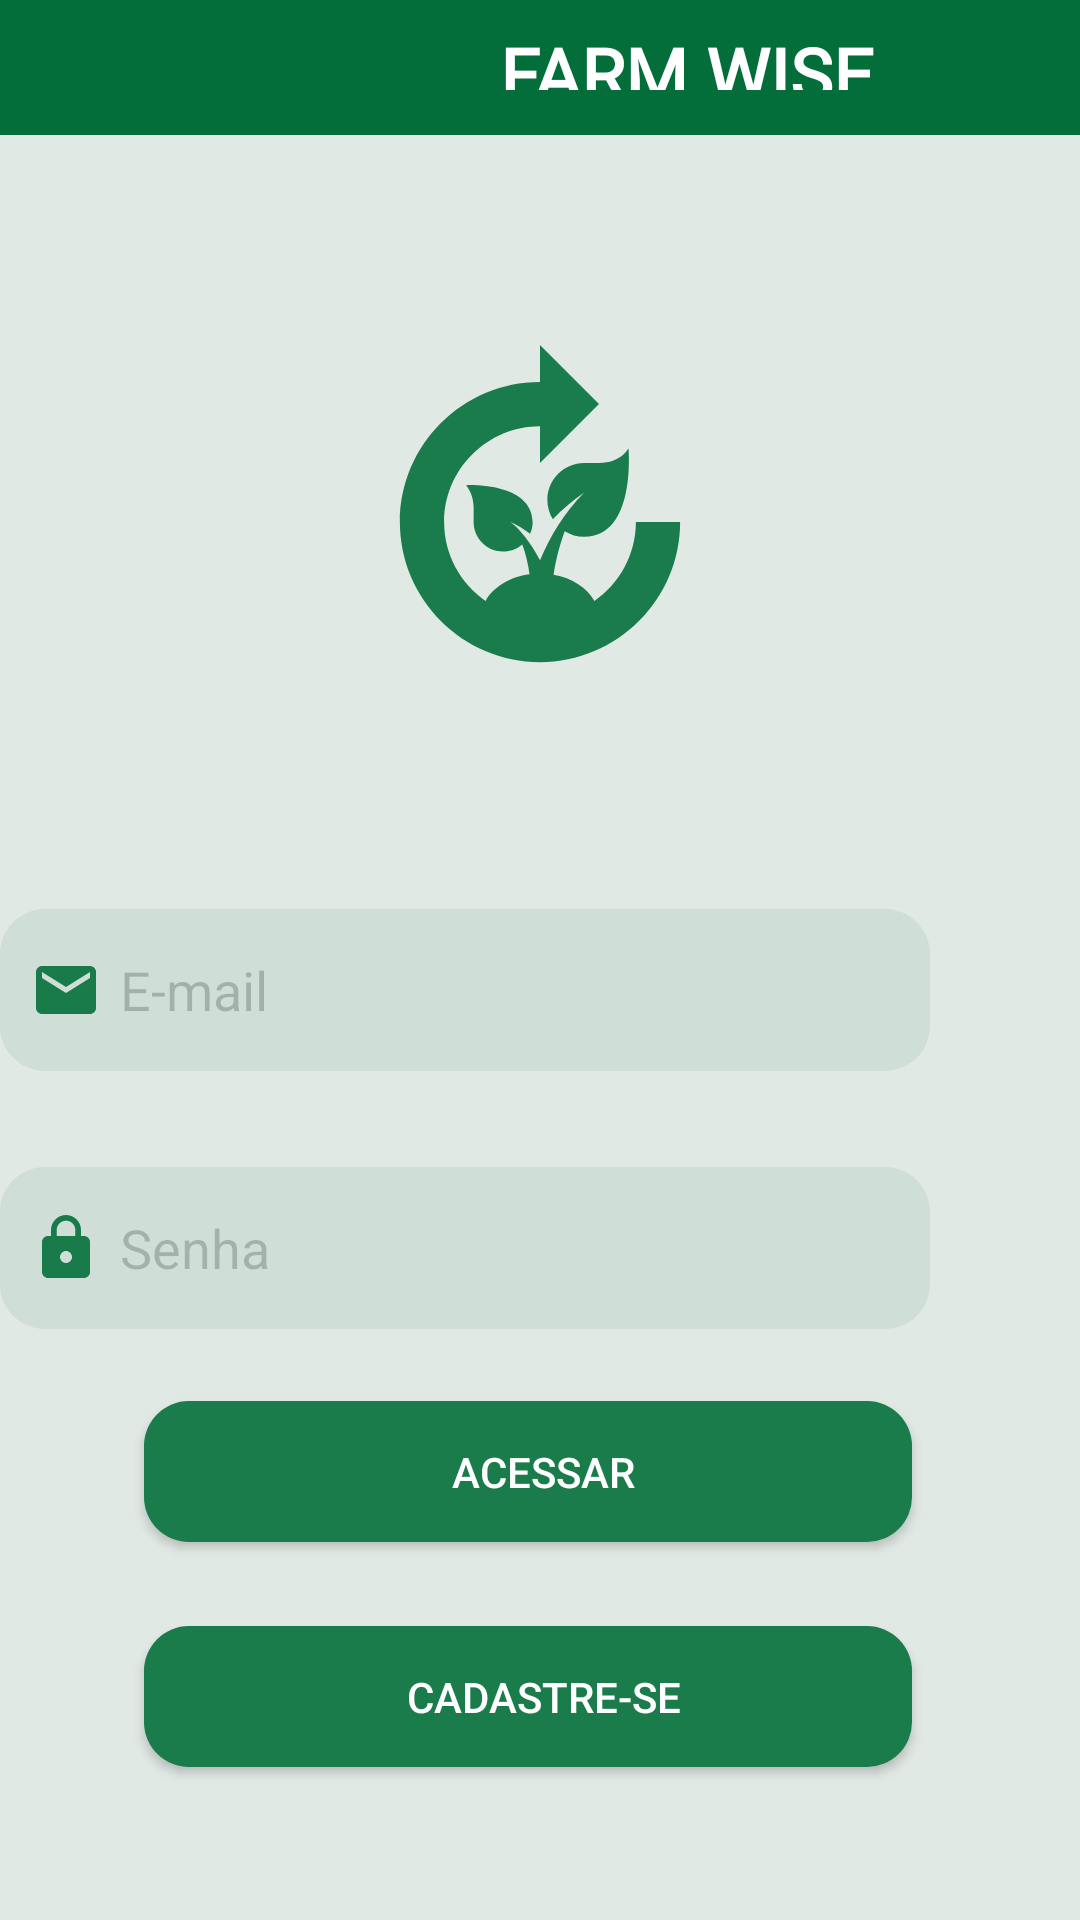

Named icons in this screenshot (1080w x 1920h) and their centers, [x,y]:
compost: [539,504]
